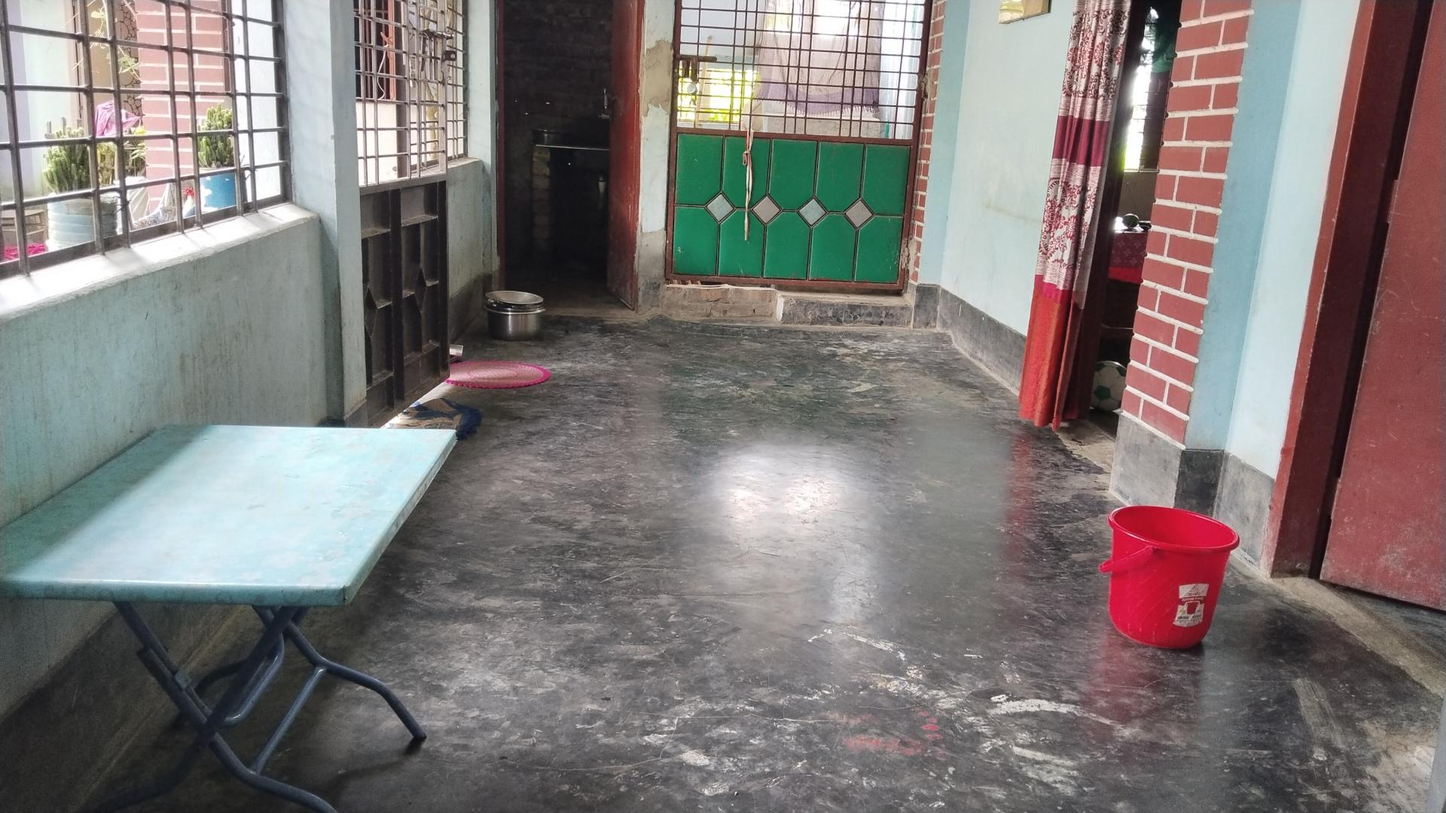Bucket: (1102, 496, 1237, 652)
Door: (675, 5, 924, 290), (494, 1, 635, 317)
Table: (0, 410, 462, 795)
